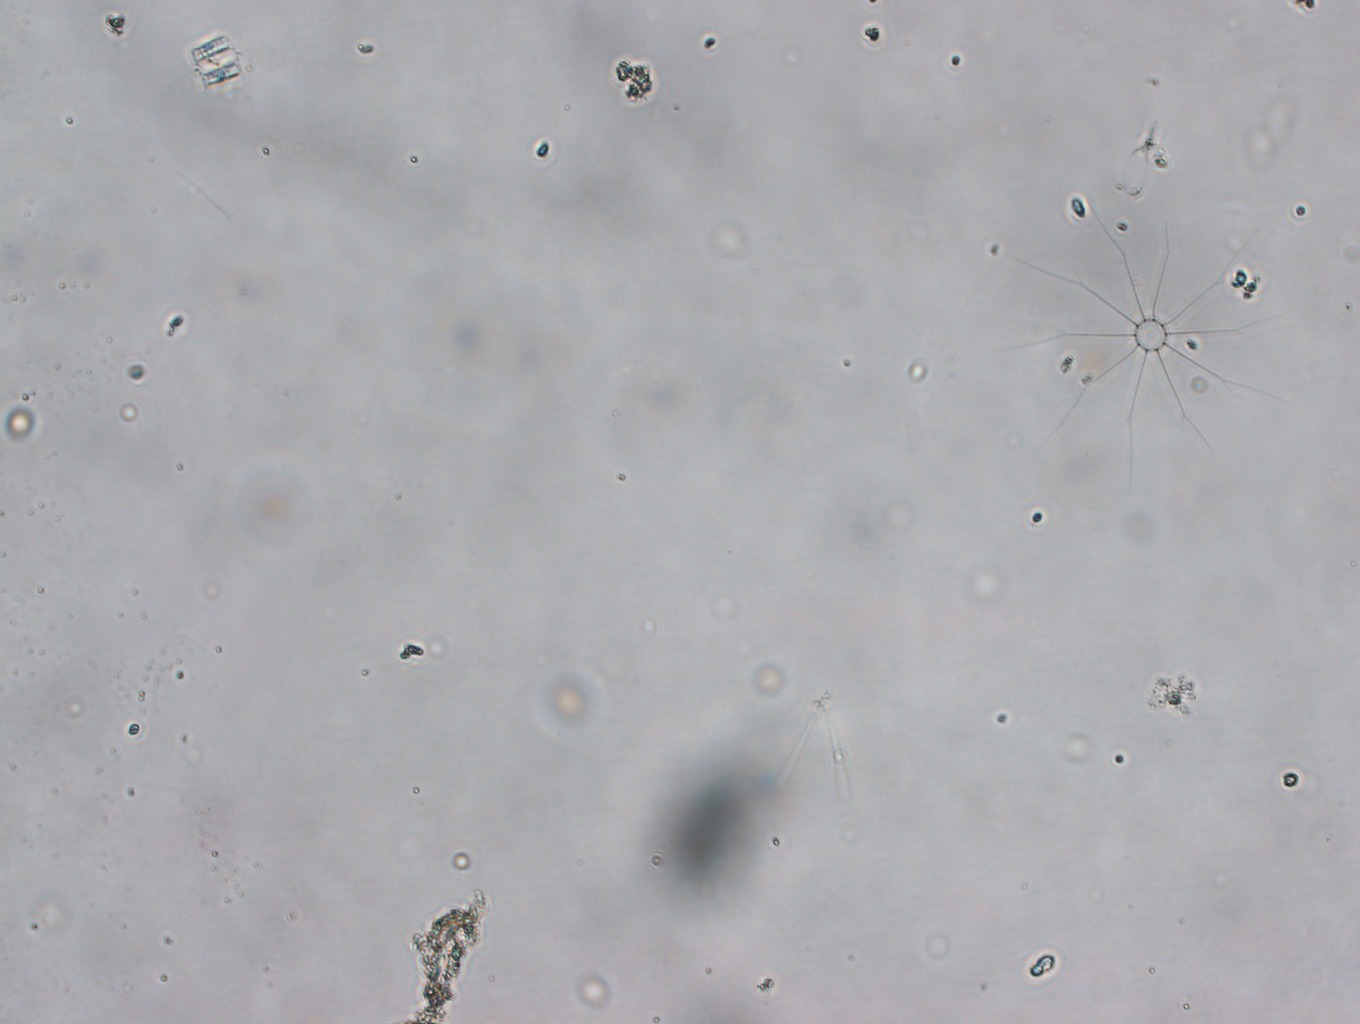bacteriastrum: (1004, 221, 1278, 477)
